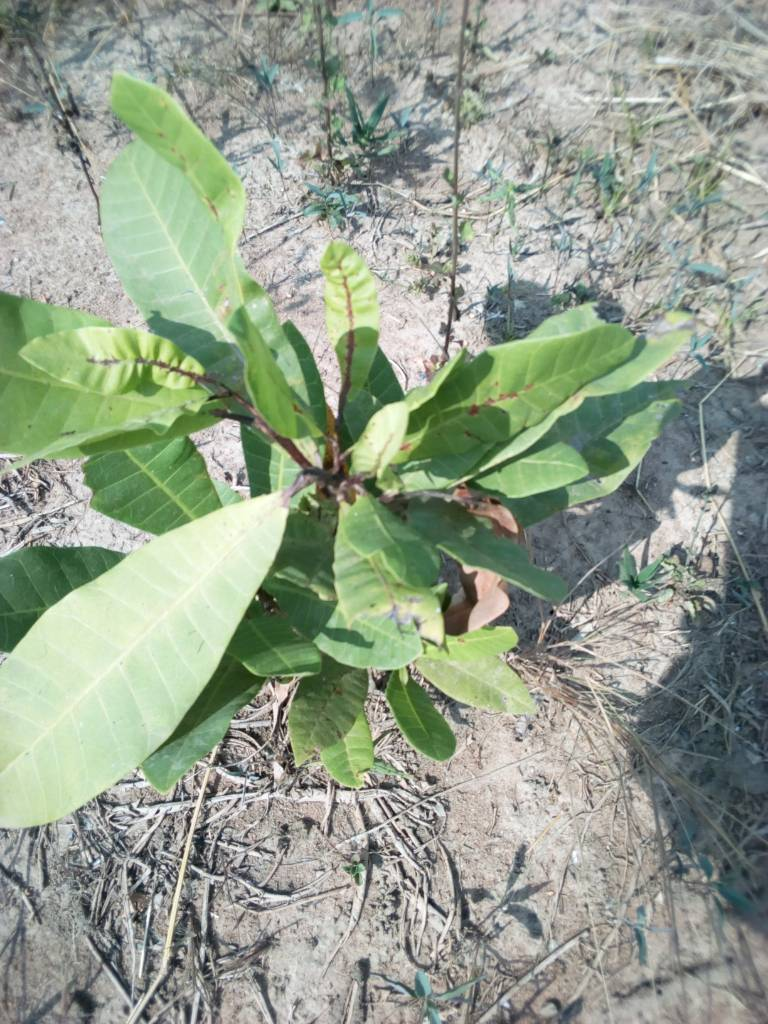Anthracnose: (410, 324, 674, 469), (13, 327, 211, 383), (324, 235, 380, 394)
